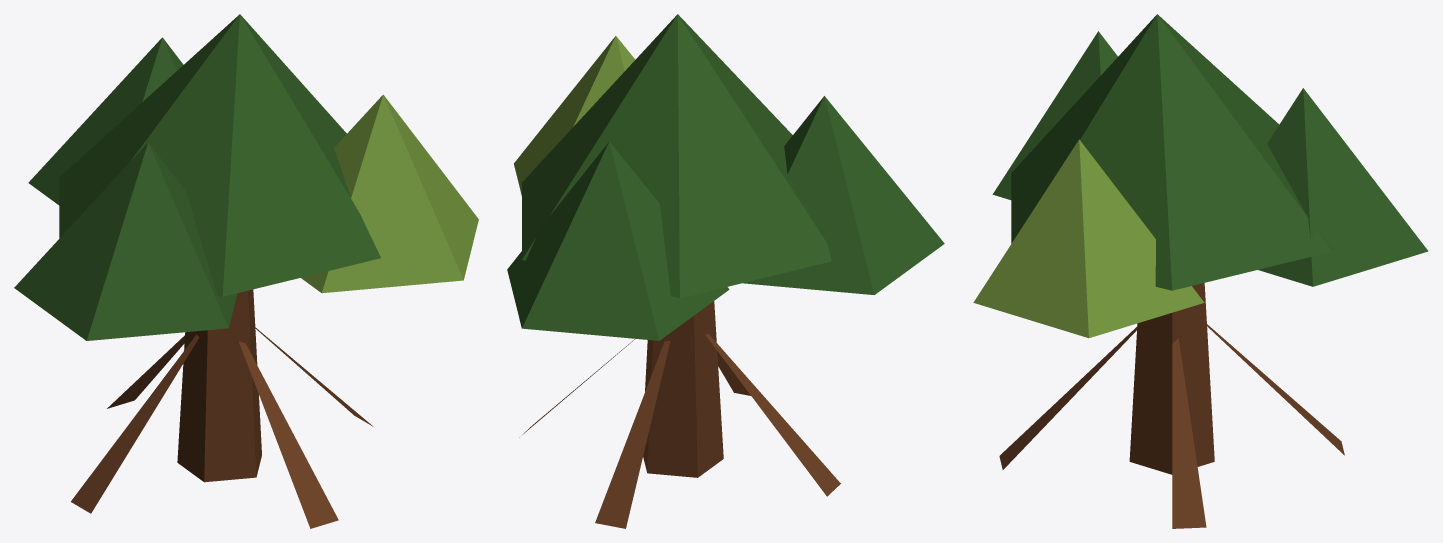
Rendered from Mangrove.fbx.
The picture shows the model from 3 angles, left to right: view 1: azimuth 30°, elevation 25°; view 2: azimuth 150°, elevation 25°; view 3: azimuth 270°, elevation 25°; orthographic projection. The views are drawn at different scales.
Parts seen in each view (by area): view 1: Mangrove; view 2: Mangrove; view 3: Mangrove.
Part boxes in pixels (x1,y1,x2,y2): Mangrove: (14, 14, 478, 528); Mangrove: (507, 14, 944, 528); Mangrove: (973, 14, 1428, 528).
Bounding box in the file's own units: 74.37 × 77 × 71.14.
